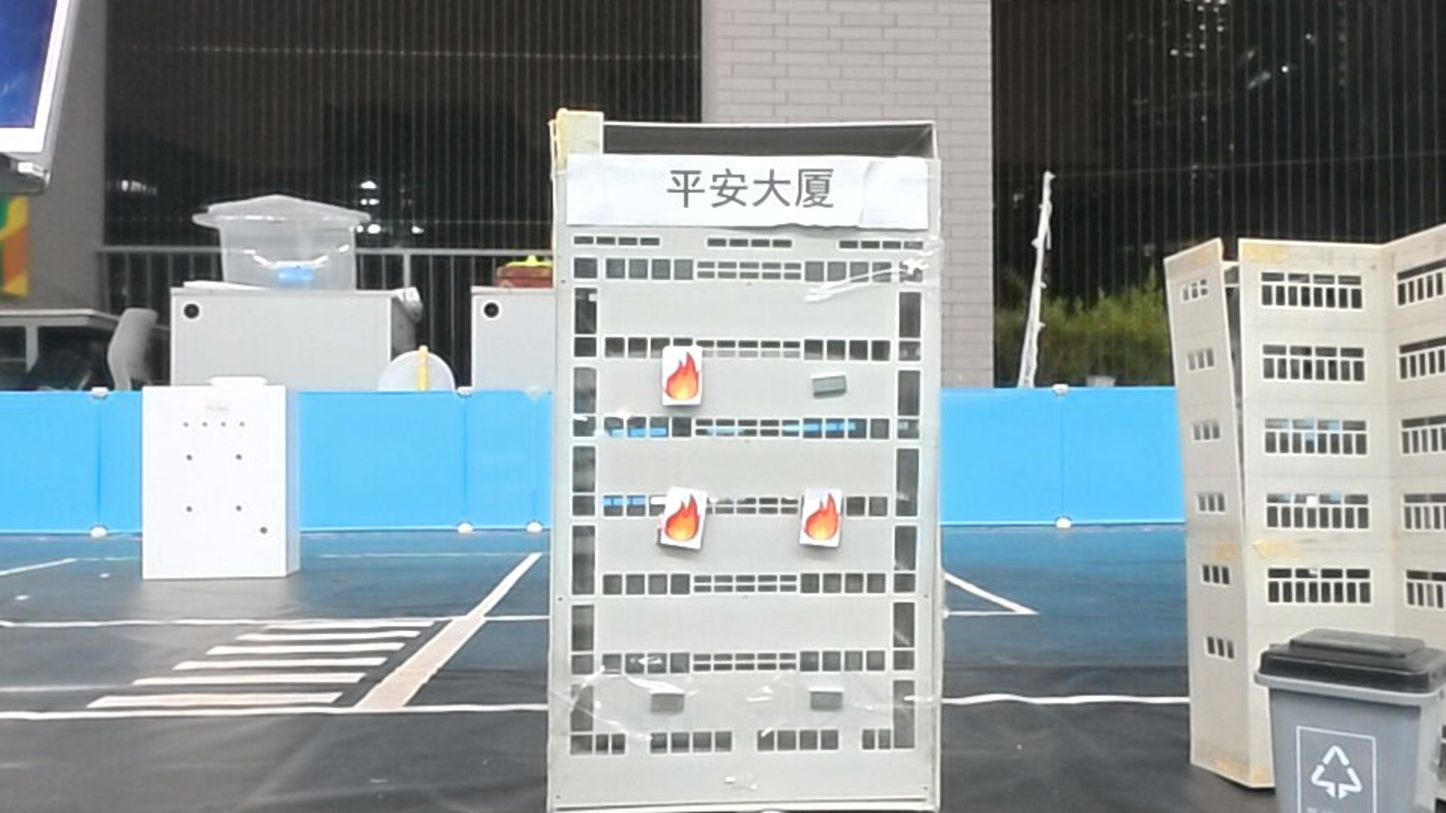fire: (661, 488, 709, 550), (661, 345, 706, 405), (802, 487, 846, 546)
